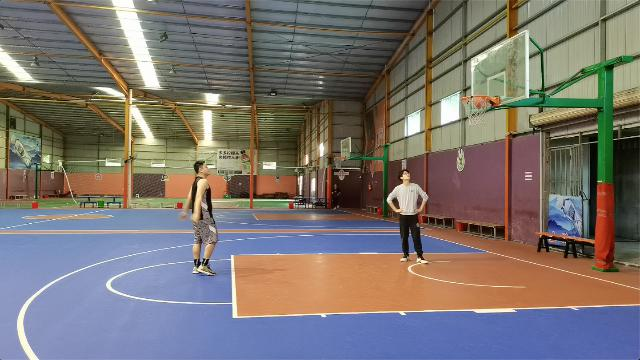basket: (460, 94, 490, 125)
goal: (472, 92, 488, 108)
